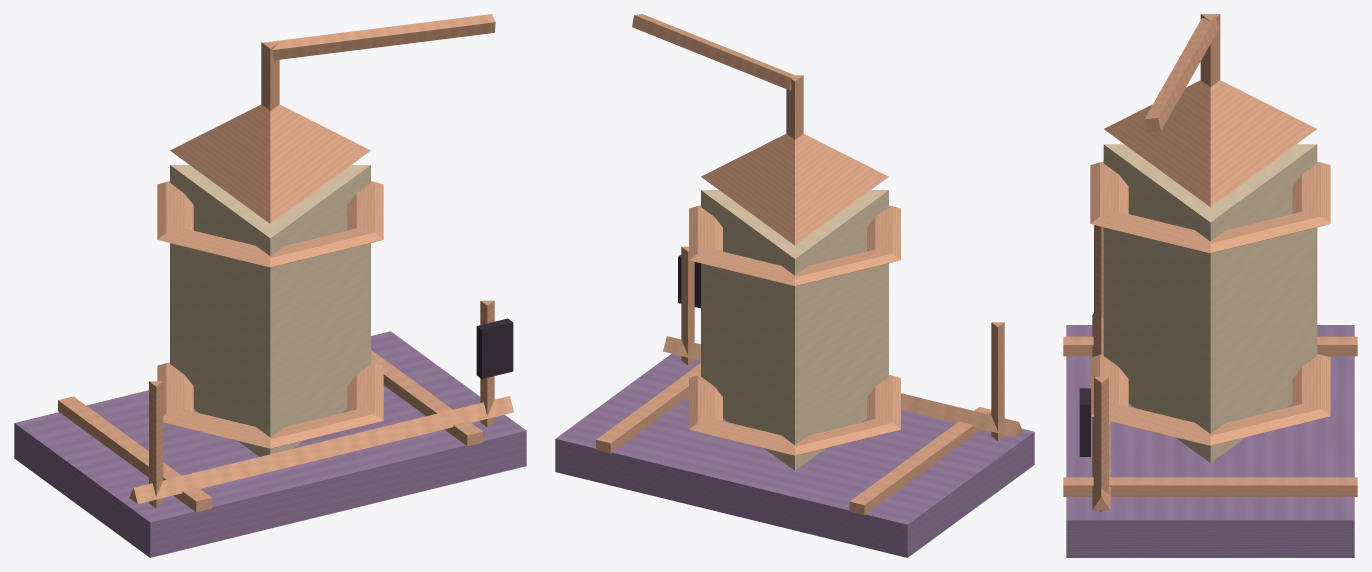
The model's file is atlas100-s085-a02.lod2.glb.
3 views of the same model, side by side, from view 1: azimuth 30°, elevation 25°; view 2: azimuth 150°, elevation 25°; view 3: azimuth 270°, elevation 25° (orthographic). The views are drawn at different scales.
Parts seen in each view (by area): view 1: atlas100-s085-a02:part-003, atlas100-s085-a02:part-000, atlas100-s085-a02:part-007, atlas100-s085-a02:part-005, atlas100-s085-a02:part-004, atlas100-s085-a02:part-014, atlas100-s085-a02:part-009, atlas100-s085-a02:part-001, atlas100-s085-a02:part-002, atlas100-s085-a02:part-013, atlas100-s085-a02:part-010, atlas100-s085-a02:part-008 (+1 smaller); view 2: atlas100-s085-a02:part-000, atlas100-s085-a02:part-003, atlas100-s085-a02:part-007, atlas100-s085-a02:part-005, atlas100-s085-a02:part-004, atlas100-s085-a02:part-001, atlas100-s085-a02:part-009, atlas100-s085-a02:part-014, atlas100-s085-a02:part-002, atlas100-s085-a02:part-010, atlas100-s085-a02:part-012, atlas100-s085-a02:part-008; view 3: atlas100-s085-a02:part-003, atlas100-s085-a02:part-000, atlas100-s085-a02:part-007, atlas100-s085-a02:part-005, atlas100-s085-a02:part-004, atlas100-s085-a02:part-002, atlas100-s085-a02:part-009, atlas100-s085-a02:part-012, atlas100-s085-a02:part-001, atlas100-s085-a02:part-014, atlas100-s085-a02:part-008, atlas100-s085-a02:part-010 (+1 smaller).
Part boxes in pixels (x1,y1,x2,y2): atlas100-s085-a02:part-003: (170, 165, 370, 456); atlas100-s085-a02:part-000: (14, 331, 526, 557); atlas100-s085-a02:part-007: (170, 104, 370, 223); atlas100-s085-a02:part-005: (157, 181, 383, 267); atlas100-s085-a02:part-004: (157, 362, 383, 448); atlas100-s085-a02:part-014: (129, 396, 513, 503); atlas100-s085-a02:part-009: (269, 14, 495, 60); atlas100-s085-a02:part-001: (58, 396, 211, 512); atlas100-s085-a02:part-002: (371, 350, 482, 446); atlas100-s085-a02:part-013: (476, 318, 513, 378); atlas100-s085-a02:part-010: (149, 381, 163, 507); atlas100-s085-a02:part-008: (261, 42, 279, 110); atlas100-s085-a02:part-000: (555, 353, 1034, 557); atlas100-s085-a02:part-003: (701, 190, 888, 470); atlas100-s085-a02:part-007: (701, 133, 888, 245); atlas100-s085-a02:part-005: (689, 205, 900, 286); atlas100-s085-a02:part-004: (689, 375, 900, 455); atlas100-s085-a02:part-001: (849, 406, 991, 515); atlas100-s085-a02:part-009: (632, 14, 794, 90); atlas100-s085-a02:part-014: (663, 336, 1022, 437); atlas100-s085-a02:part-002: (596, 363, 700, 453); atlas100-s085-a02:part-010: (991, 322, 1004, 440); atlas100-s085-a02:part-012: (681, 246, 694, 365); atlas100-s085-a02:part-008: (786, 75, 803, 139); atlas100-s085-a02:part-003: (1103, 144, 1317, 462); atlas100-s085-a02:part-000: (1066, 325, 1354, 557); atlas100-s085-a02:part-007: (1104, 80, 1316, 206); atlas100-s085-a02:part-005: (1090, 161, 1330, 253); atlas100-s085-a02:part-004: (1090, 354, 1330, 445); atlas100-s085-a02:part-002: (1063, 477, 1357, 496); atlas100-s085-a02:part-009: (1144, 16, 1218, 132); atlas100-s085-a02:part-012: (1094, 377, 1108, 511); atlas100-s085-a02:part-001: (1063, 336, 1357, 356); atlas100-s085-a02:part-014: (1092, 313, 1110, 510); atlas100-s085-a02:part-008: (1200, 14, 1220, 86); atlas100-s085-a02:part-010: (1094, 225, 1103, 322).
Size of the model in its own units: 2.95 by 3.06 by 1.84.
Materials: 5 (5 with a texture image).
